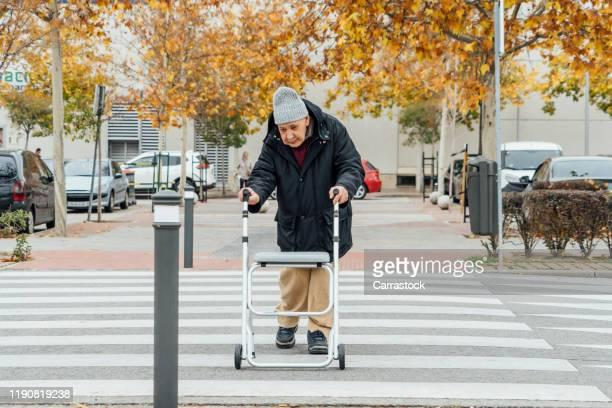walking_frame: (234, 86, 365, 370)
